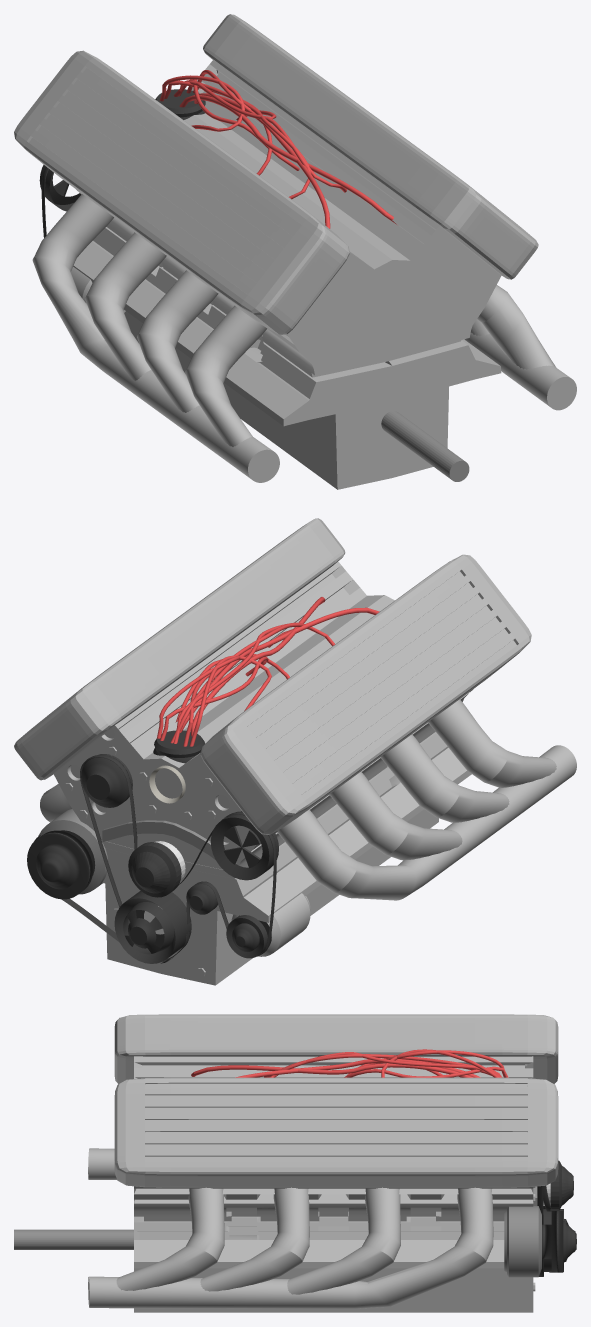
Rendered from engine.fbx.
The picture shows the model from 3 angles, top to bottom: view 1: azimuth 30°, elevation 25°; view 2: azimuth 150°, elevation 25°; view 3: azimuth 270°, elevation 25°; orthographic projection. The views are drawn at different scales.
Parts seen in each view (by area): view 1: Body, Block_1, Block_5; view 2: Body, Block_3, Block_6, Block_5, Block_4, Curve.001, Block_9, Block_8, Block_2; view 3: Body, Block_1, Block_6, Block_4.
Part boxes in pixels (bbox=[...]): Body: bbox=[14, 14, 576, 489]; Block_1: bbox=[381, 411, 469, 481]; Block_5: bbox=[39, 164, 81, 211]; Body: bbox=[14, 518, 576, 985]; Block_3: bbox=[114, 891, 191, 963]; Block_6: bbox=[27, 830, 95, 899]; Block_5: bbox=[210, 811, 278, 880]; Block_4: bbox=[128, 842, 181, 897]; Curve.001: bbox=[80, 755, 276, 961]; Block_9: bbox=[81, 754, 132, 807]; Block_8: bbox=[226, 915, 271, 958]; Block_2: bbox=[186, 881, 217, 914]; Body: bbox=[88, 1014, 558, 1312]; Block_1: bbox=[14, 1229, 133, 1249]; Block_6: bbox=[542, 1211, 576, 1272]; Block_4: bbox=[550, 1160, 573, 1210].
Size of the model in its own units: 775 by 617 by 1293.
